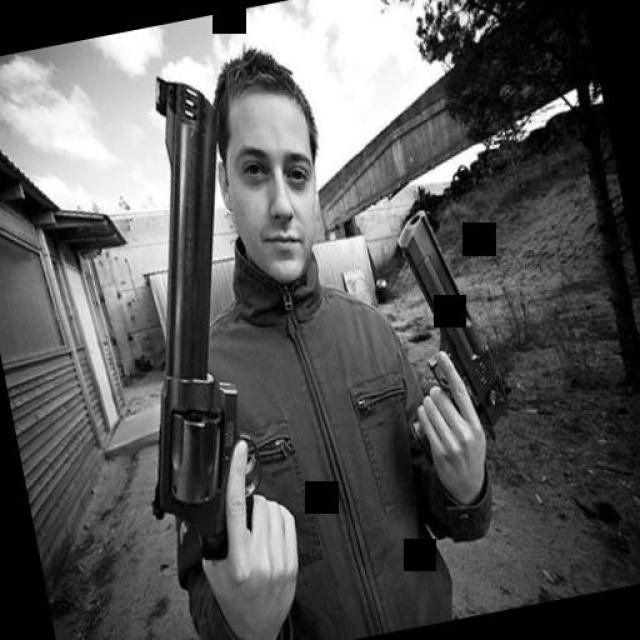gun: (70, 61, 304, 572), (368, 195, 518, 473)
